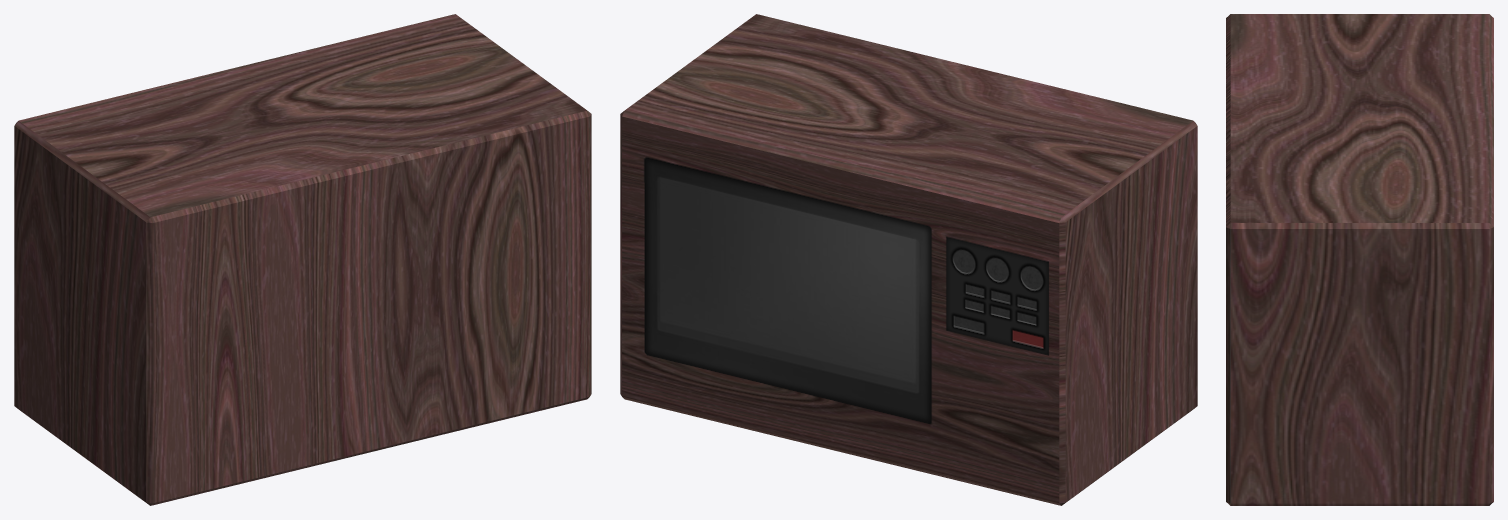
3 renders of one model, left to right at view 1: azimuth 30°, elevation 25°; view 2: azimuth 150°, elevation 25°; view 3: azimuth 270°, elevation 25°, orthographic. The views are drawn at different scales.
Parts seen in each view (by area): view 1: TV; view 2: TV; view 3: TV.
Part boxes in pixels (<box>): TV: <box>14,14,591,505</box>; TV: <box>620,14,1197,505</box>; TV: <box>1226,14,1493,505</box>.
Size of the model in its own units: 0.2713 by 0.1682 by 0.1443.
Materials: 1 (1 with a texture image).
